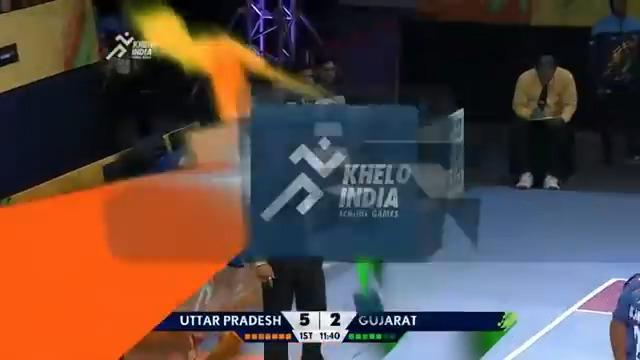Player: (608, 272, 639, 359)
referee: (510, 52, 578, 190), (587, 0, 639, 166)
